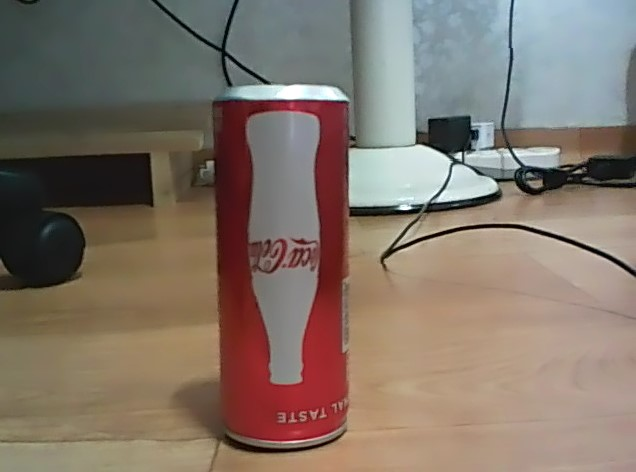Can: (206, 78, 355, 454)
